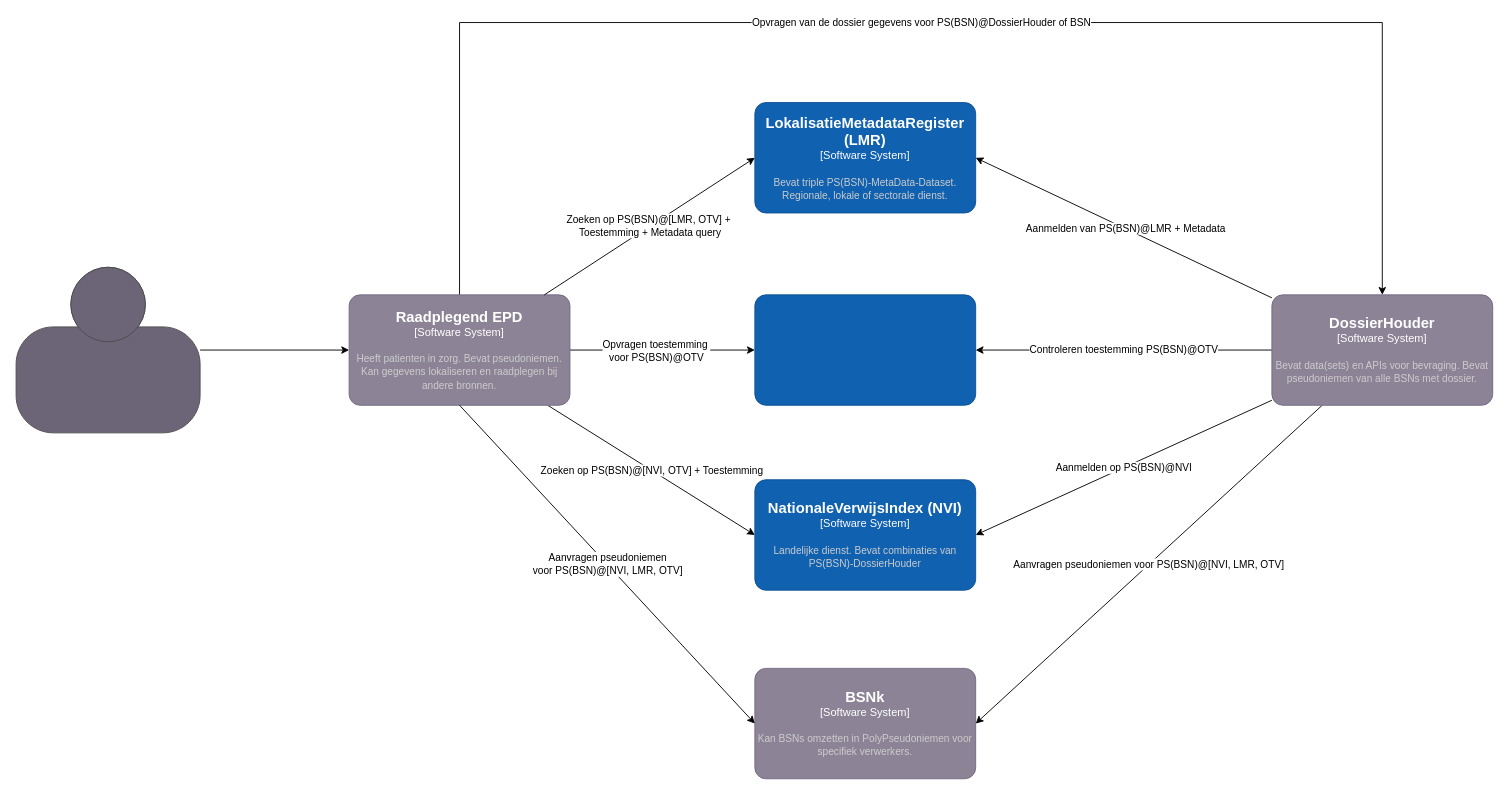
This 1509x795 diagram has some shape labels left out. The centre of each missing label's shape, as x and y in pixels:
"OTV [Software System] Bevat toestemmingen voor PS(BSN) en Organisatiecategorie" belongs at (x=865, y=349).
"Zorgverlener [Person] Heeft een informatiebehoefte voor een patient met BSN." belongs at (x=107, y=349).
